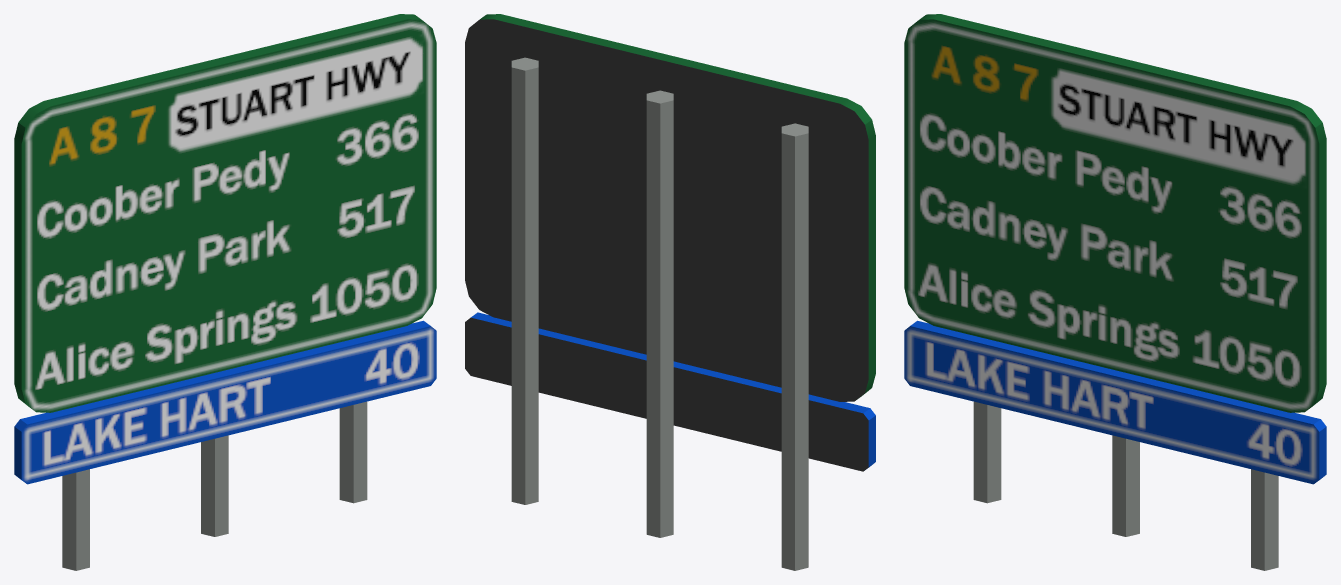
Rendered from Sign_03.fbx.
3 views of the same model, side by side, from view 1: azimuth 30°, elevation 25°; view 2: azimuth 150°, elevation 25°; view 3: azimuth 330°, elevation 25° (orthographic). The views are drawn at different scales.
Parts seen in each view (by area): view 1: Sign_03; view 2: Sign_03; view 3: Sign_03.
Part boxes in pixels (left/top/right/bottom): Sign_03: left=14, top=14, right=436, bottom=570; Sign_03: left=465, top=14, right=875, bottom=570; Sign_03: left=904, top=14, right=1326, bottom=570.
Size of the model in its own units: 299 by 329 by 26.44.
Materials: 1 (1 with a texture image).
